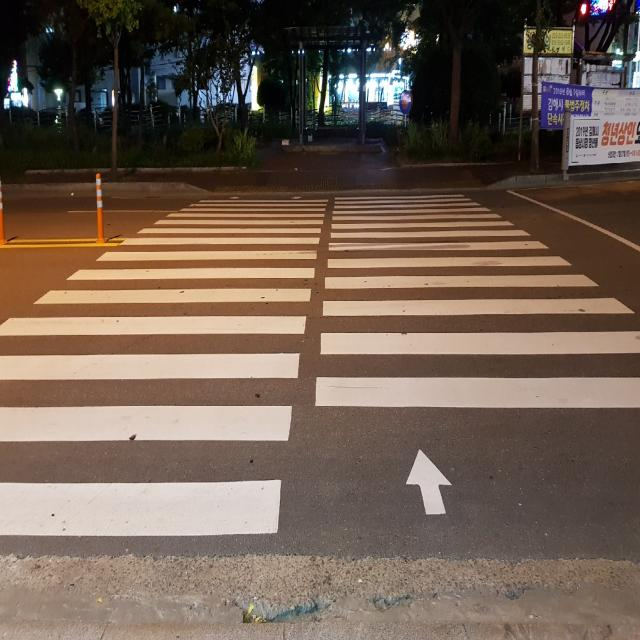횡단보도: (4, 195, 640, 536)
